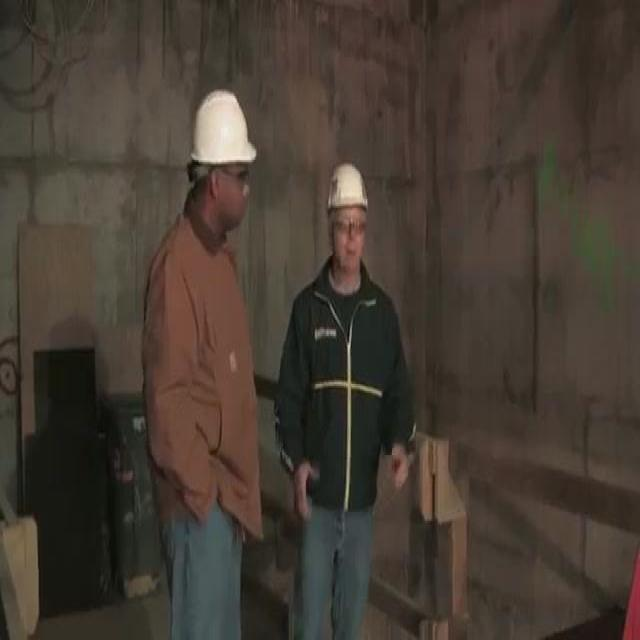Reflective-Jacket: (272, 263, 421, 498)
Safety-Helmet: (175, 73, 266, 194), (316, 149, 379, 233)
